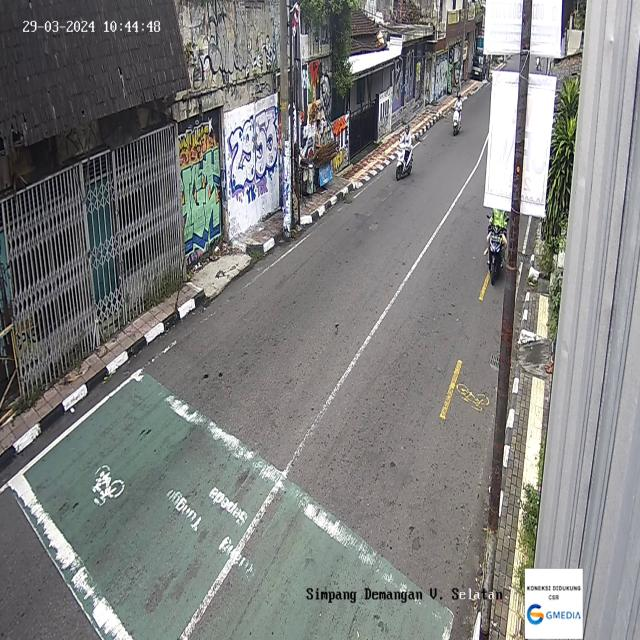motorcycle: (484, 209, 510, 285), (395, 122, 414, 180), (452, 91, 463, 136)
